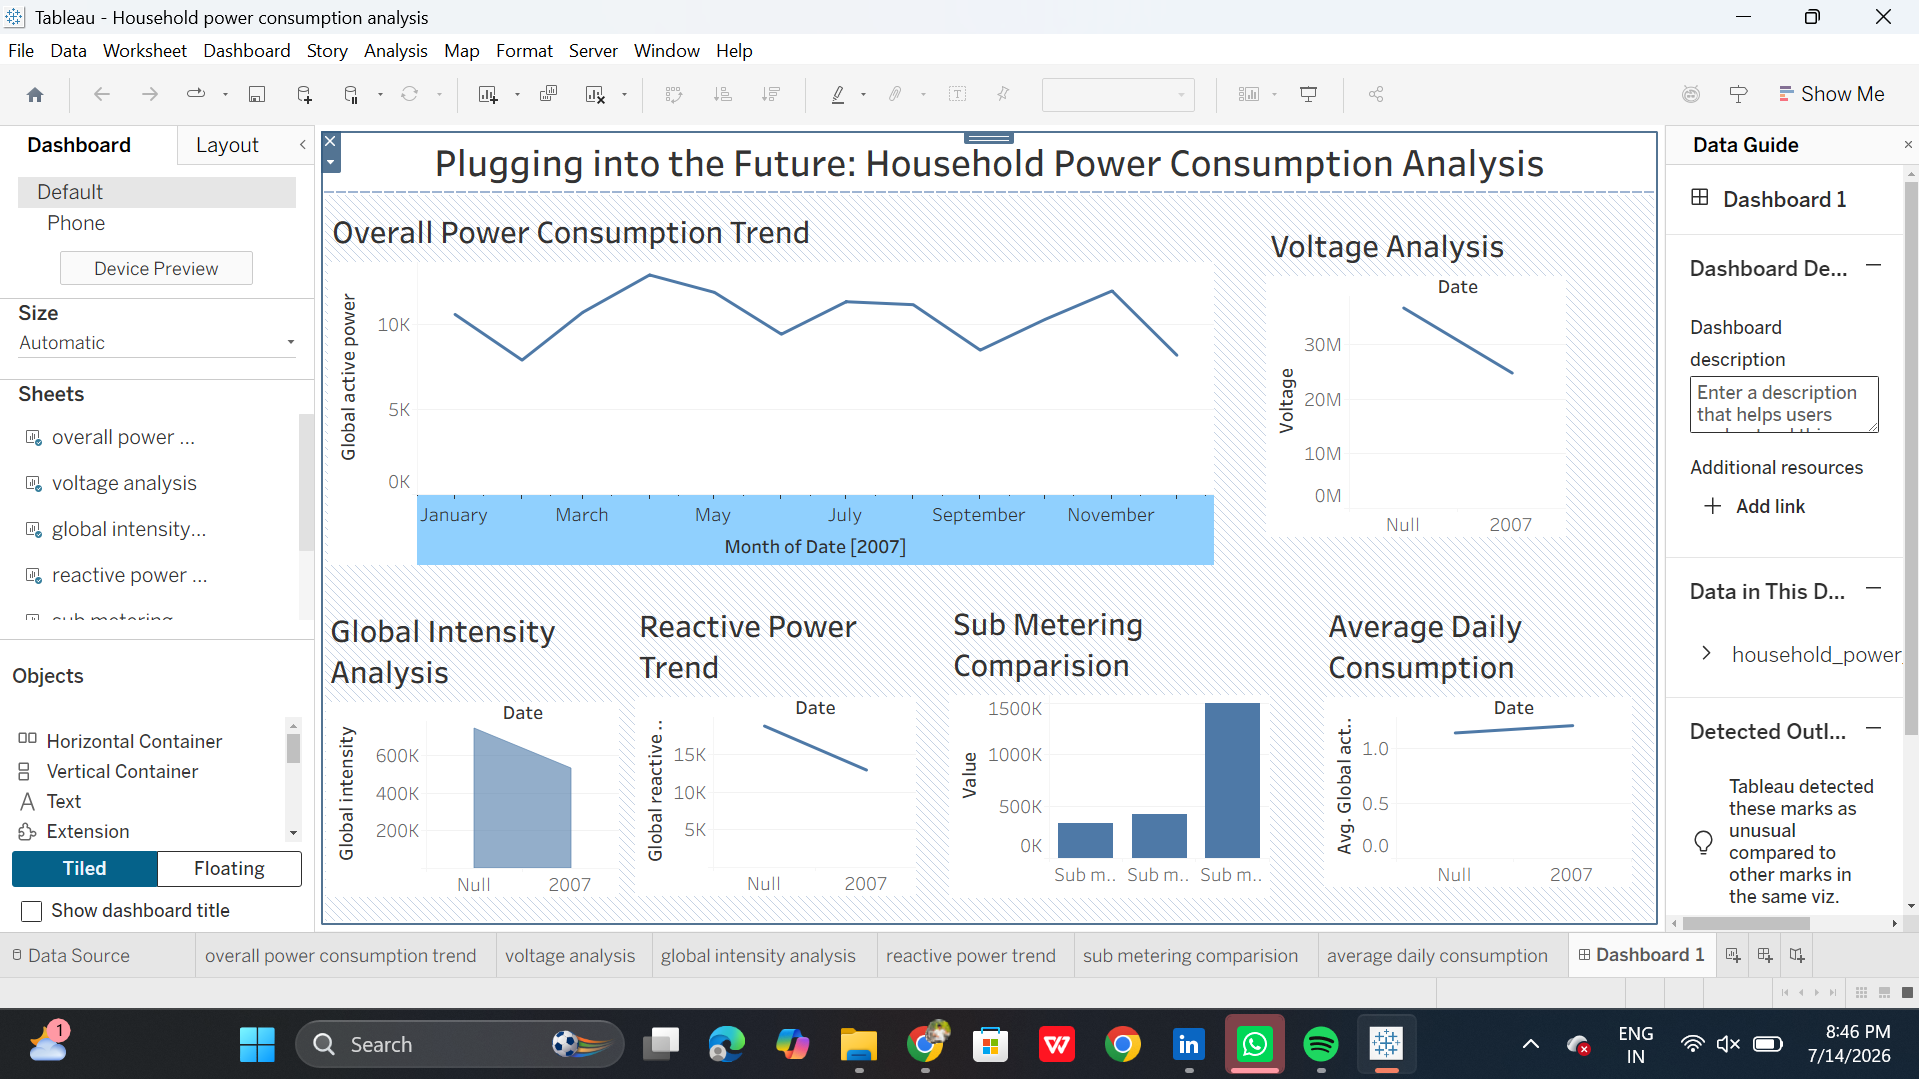

The page's visual inventory and layout, read from the dashboard file:
{"tool":"tableau","page":{"name":"Dashboard 1","canvas":[1000,1000],"units":"permille","ordinal":0},"visuals":[{"type":"title","box":[5,9.9,990,72]},{"type":"worksheet","title":"overall power consumption trend","mark":"Line","rows":["Global_active_power"],"cols":["Date"],"box":[10,100.5,657.1,445.4]},{"type":"worksheet","title":"voltage analysis","mark":"Line","rows":["Voltage"],"cols":["Date"],"box":[705.1,117.9,222.6,393.3]},{"type":"worksheet","title":"sub metering comparision","mark":"Bar","box":[470.1,586.9,238.2,372.2]},{"type":"worksheet","title":"reactive power trend","mark":"Line","rows":["Global_reactive_power"],"cols":["Date"],"box":[236.9,589.3,208.8,367.2]},{"type":"worksheet","title":"average daily consumption","mark":"Automatic","rows":["Global_active_power"],"cols":["Date"],"box":[748.1,589.3,231.9,356.1]},{"type":"worksheet","title":"global intensity analysis","mark":"Area","rows":["Global_intensity"],"cols":["Date"],"box":[8.1,595.5,217,362.3]}]}

Visuals, with their boxes on the dashboard's canvas, which has no fixed pixel size, in thousandths of its width and height (x1, y1, x2, y2). These are canvas units, not pixel positions in the 1919x1079 screenshot, which may show the page scaled, cropped or inside an application window:
title: <region>5, 10, 995, 82</region>
"overall power consumption trend" worksheet (Line marks): <region>10, 100, 667, 546</region>
"voltage analysis" worksheet (Line marks): <region>705, 118, 928, 511</region>
"sub metering comparision" worksheet (Bar marks): <region>470, 587, 708, 959</region>
"reactive power trend" worksheet (Line marks): <region>237, 589, 446, 956</region>
"average daily consumption" worksheet: <region>748, 589, 980, 945</region>
"global intensity analysis" worksheet (Area marks): <region>8, 596, 225, 958</region>
